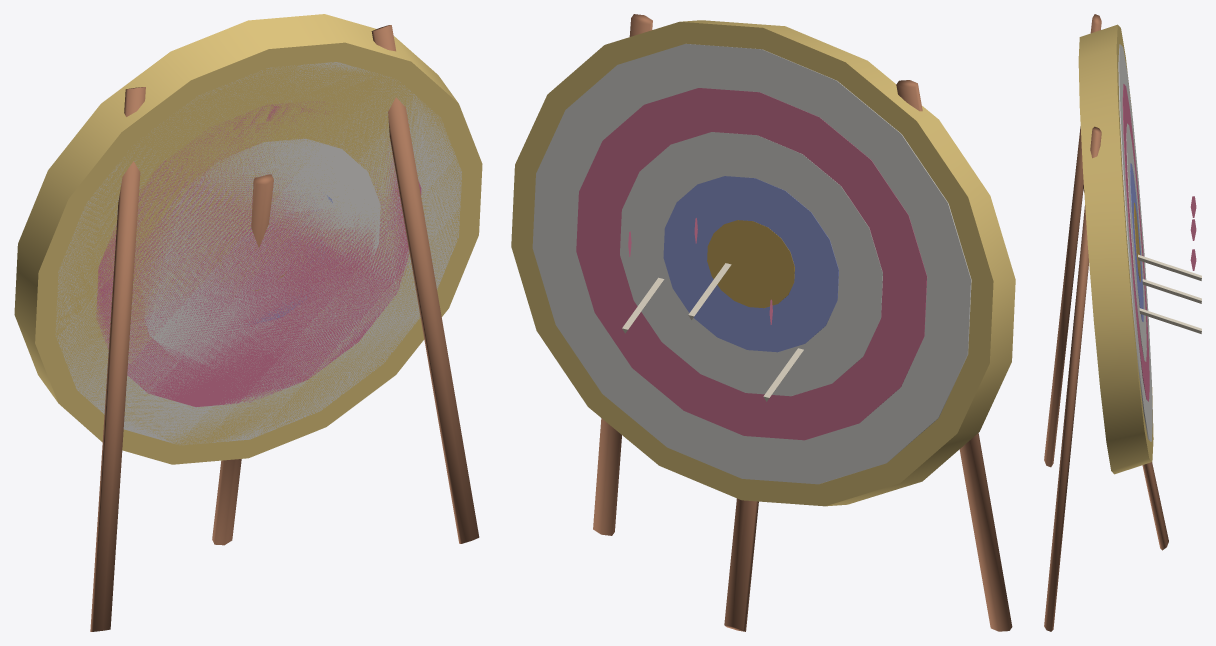
File: target_straw.glb
The picture shows the model from 3 angles, left to right: view 1: azimuth 30°, elevation 25°; view 2: azimuth 150°, elevation 25°; view 3: azimuth 270°, elevation 25°; orthographic projection. The views are drawn at different scales.
Visible parts, largest first — view 1: target_straw; view 2: target_straw; view 3: target_straw.
Boxes of the visible parts, x1=… form: target_straw: x1=14, y1=14, x2=482, y2=631; target_straw: x1=511, y1=14, x2=1015, y2=631; target_straw: x1=1044, y1=14, x2=1201, y2=631.
Size of what is drawn, in the model's own units: 1.2 by 1.4 by 0.4.
